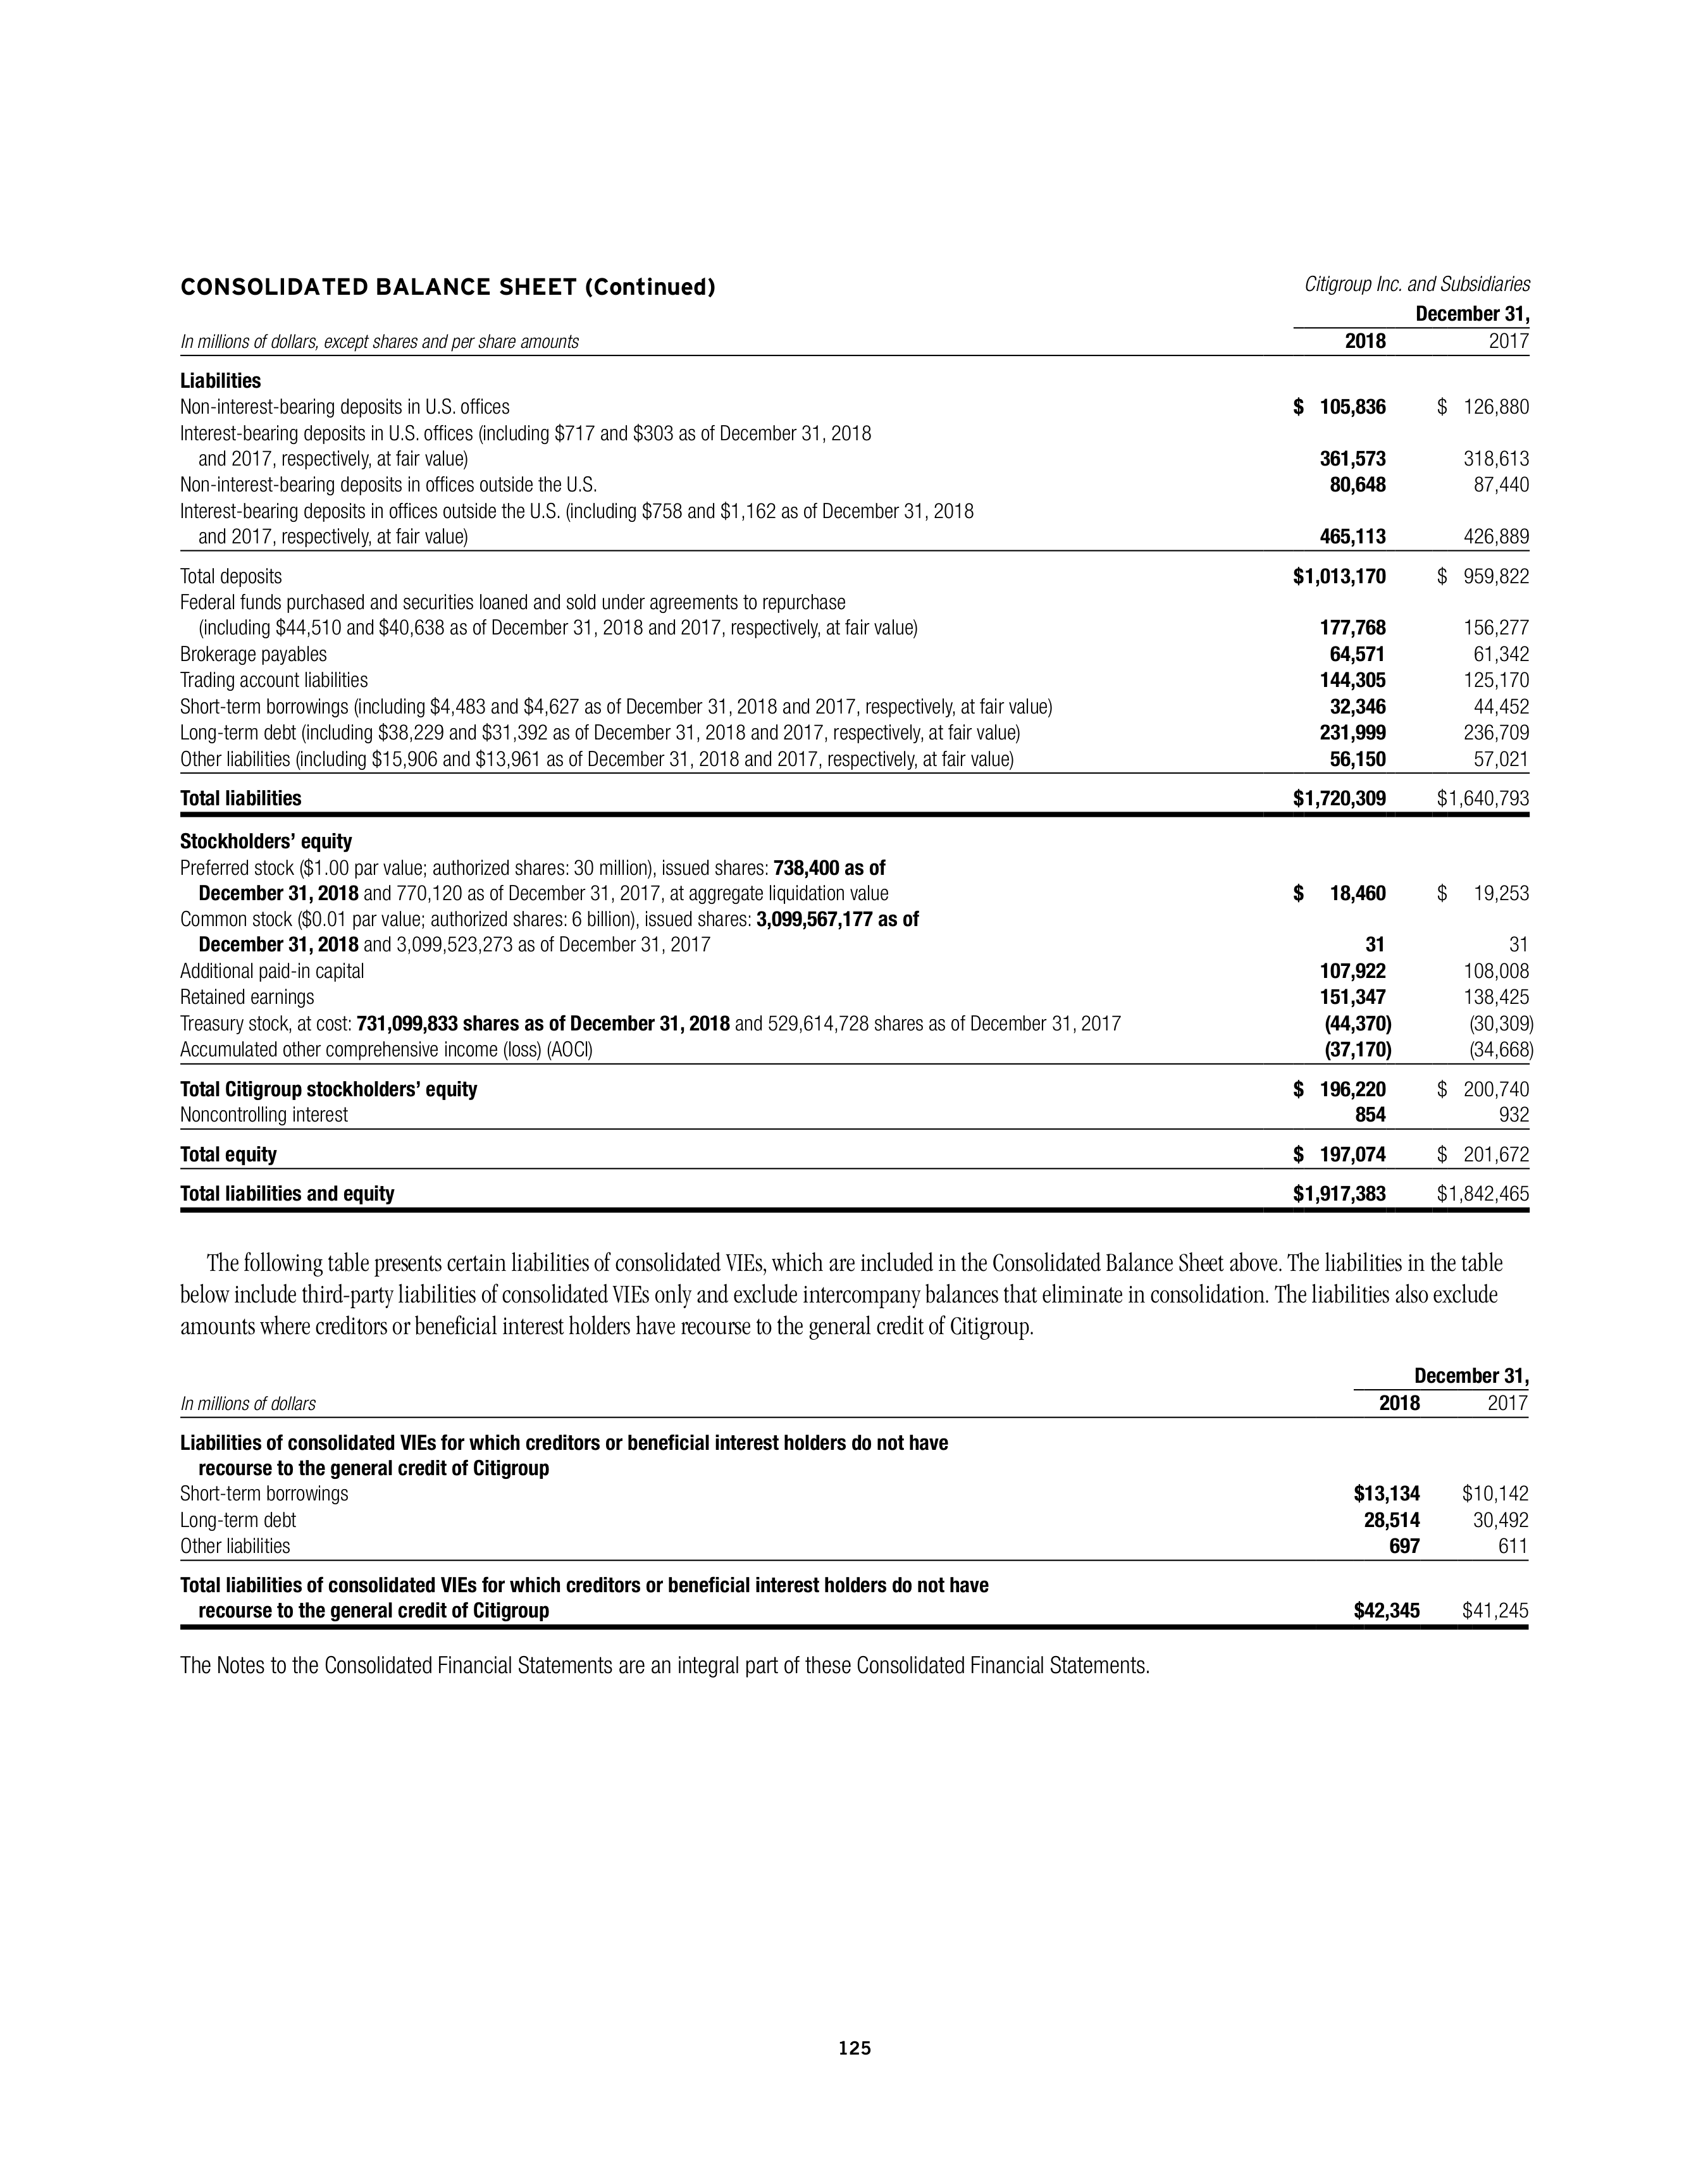balance_sheet: (163, 257, 1550, 1228), (172, 1357, 1561, 1643)
